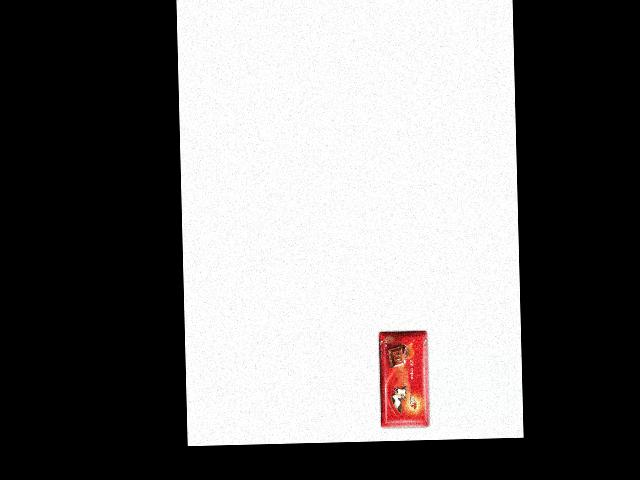chocolate: (375, 329, 430, 433)
